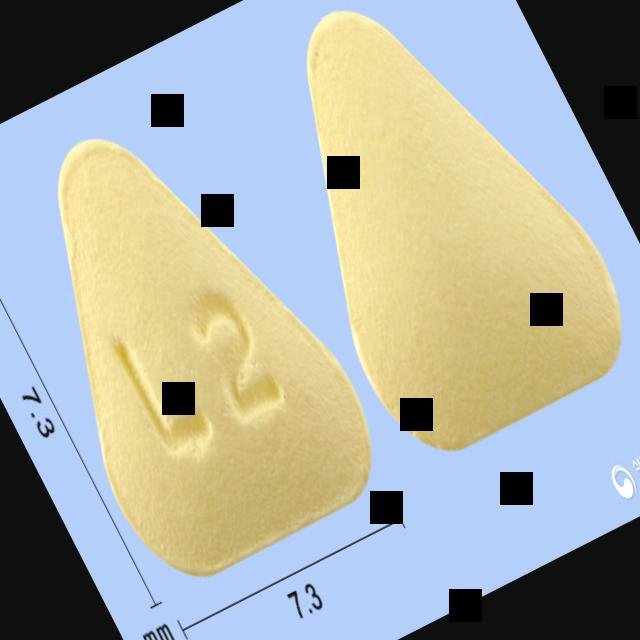Luarva: (0, 80, 402, 602)
